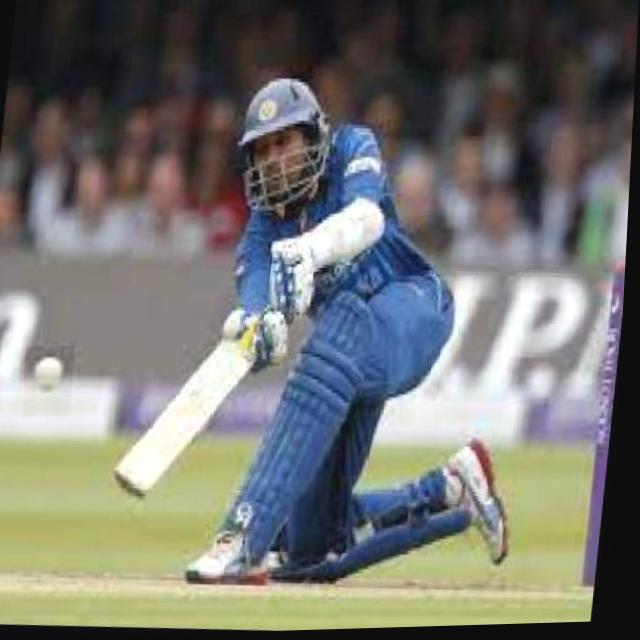-: (27, 346, 78, 417)
